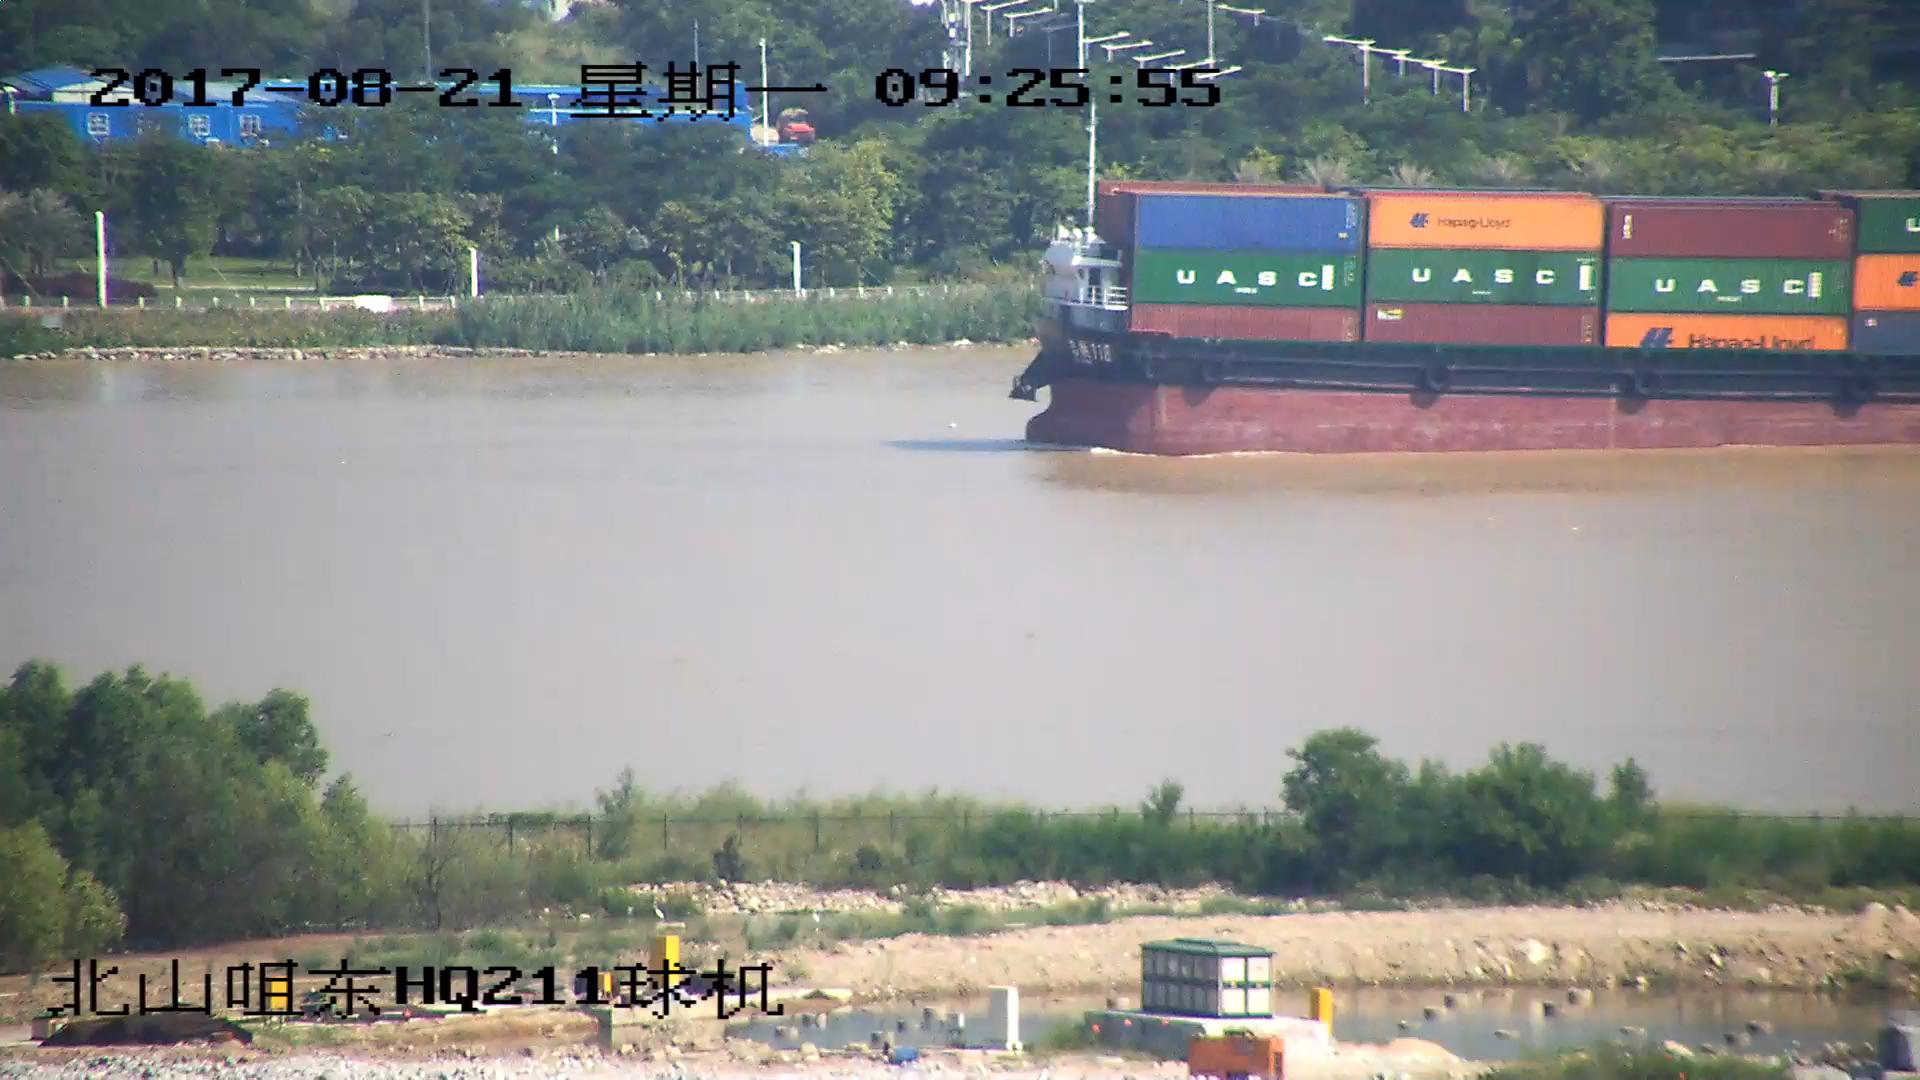container ship: (1007, 112, 1920, 452)
